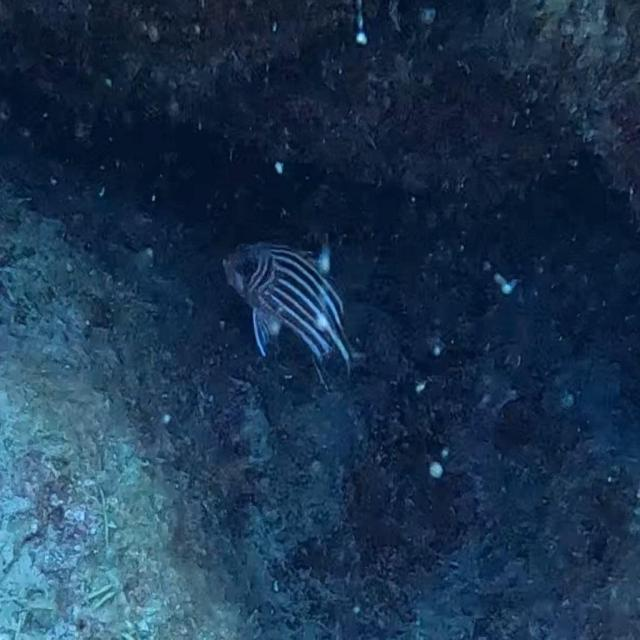Asker Baligi: (219, 238, 355, 390)
